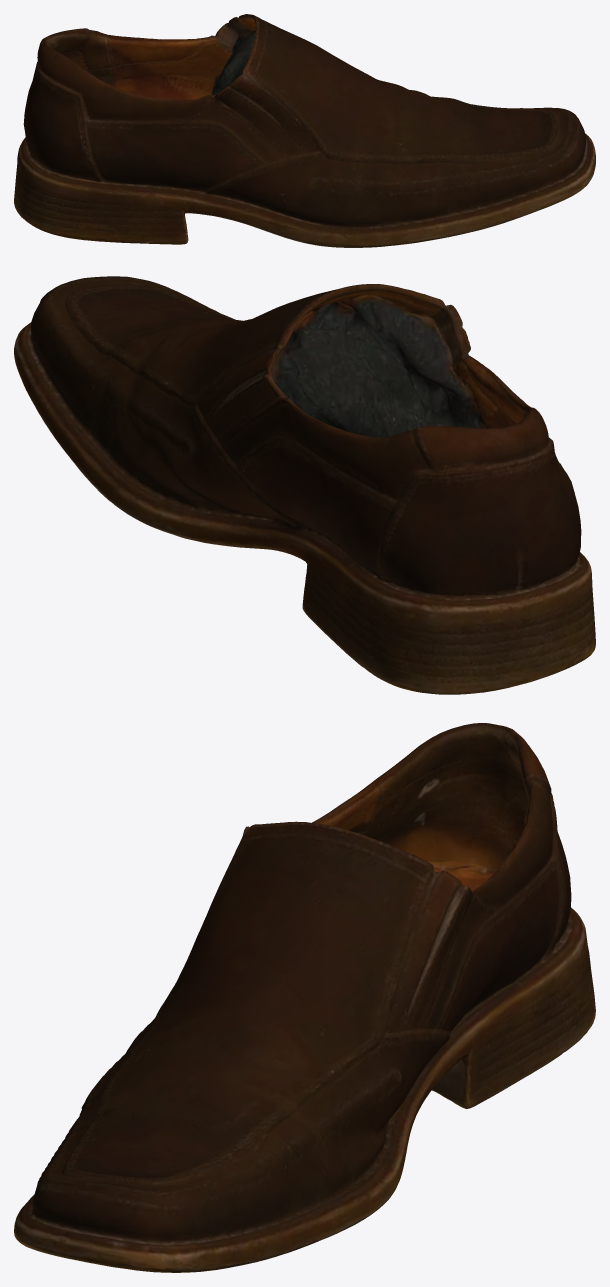
Rendered from oxford.glb.
3 renders of one model, top to bottom at view 1: azimuth 30°, elevation 25°; view 2: azimuth 150°, elevation 25°; view 3: azimuth 270°, elevation 25°, orthographic. The views are drawn at different scales.
Parts seen in each view (by area): view 1: 3DGeom-1; view 2: 3DGeom-1; view 3: 3DGeom-1.
Part boxes in pixels (x1,y1,x2,y2): 3DGeom-1: [14, 14, 595, 247]; 3DGeom-1: [14, 276, 595, 694]; 3DGeom-1: [14, 723, 595, 1272].
Bounding box in the file's own units: 0.2859 × 0.1073 × 0.1912.
Materials: 1 (1 with a texture image).
